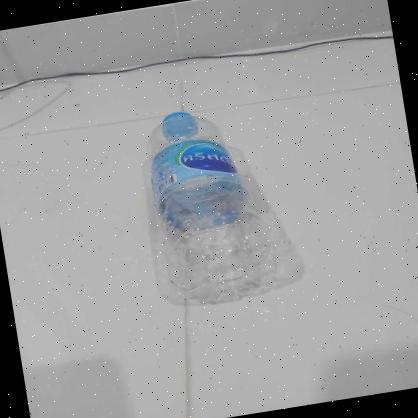bottle: (138, 100, 276, 296)
cap: (160, 109, 194, 122)
label: (144, 128, 258, 209)
